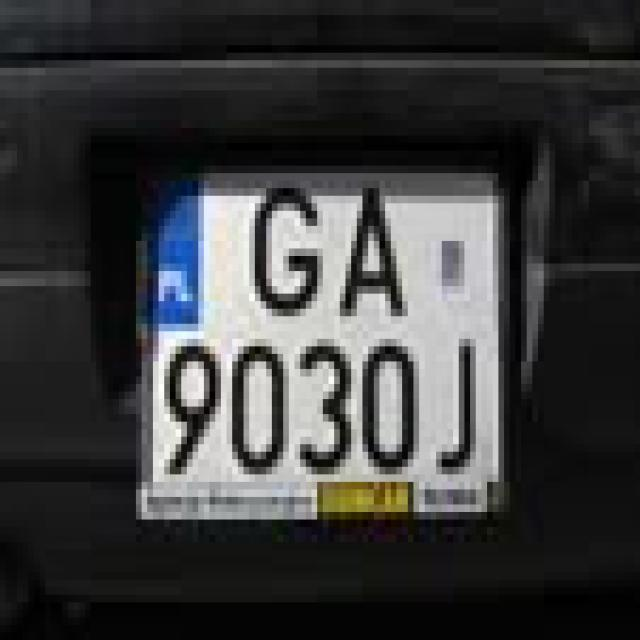pl_license_plate: (142, 166, 492, 474)
